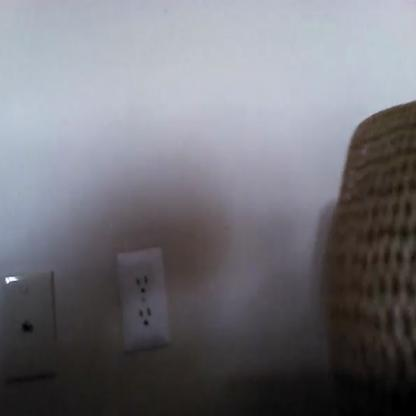OUTLET: (118, 246, 170, 348)
